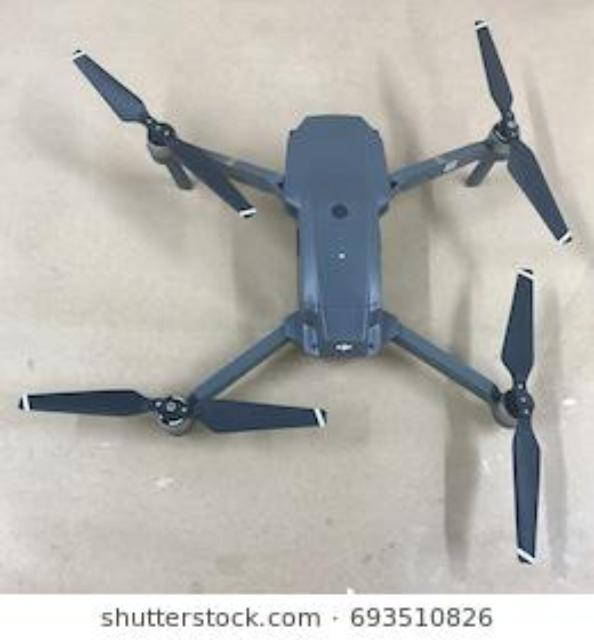drone: (7, 0, 594, 569)
